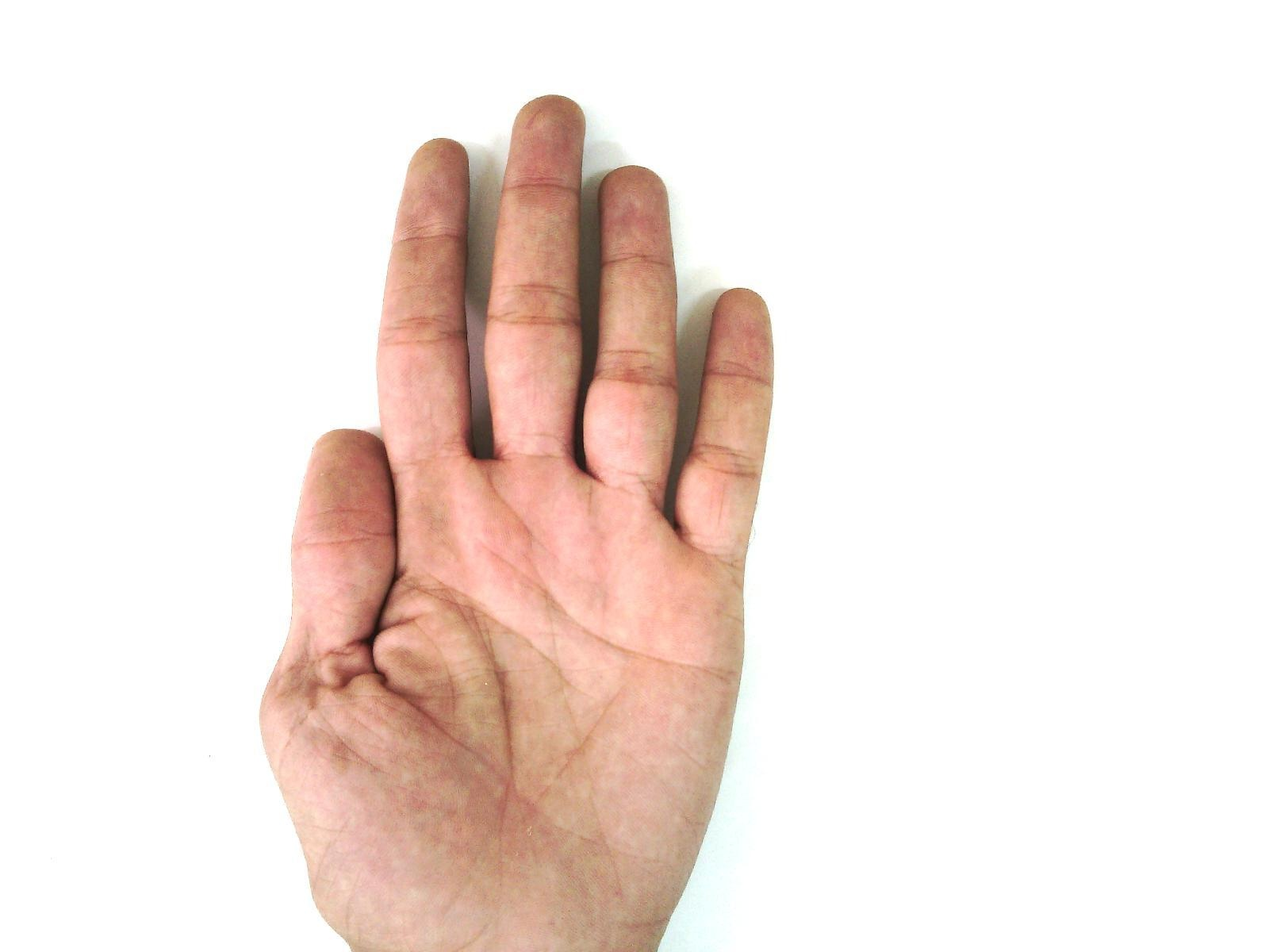open_palm: (257, 94, 778, 951)
